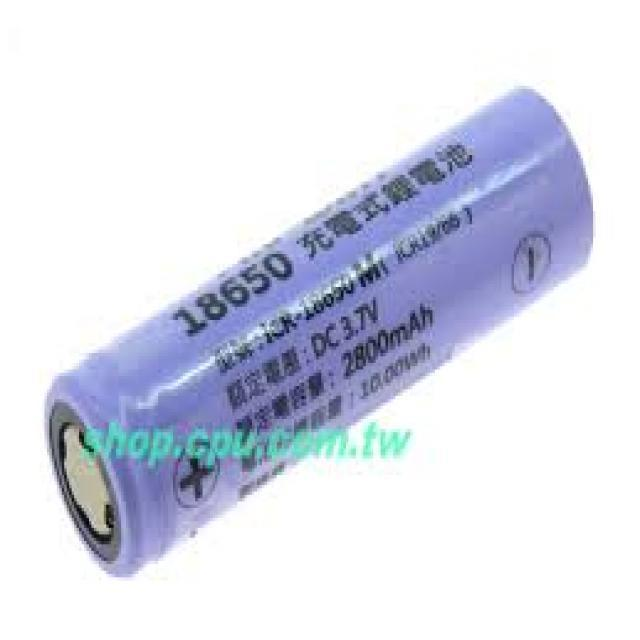AA: (47, 81, 596, 584)
